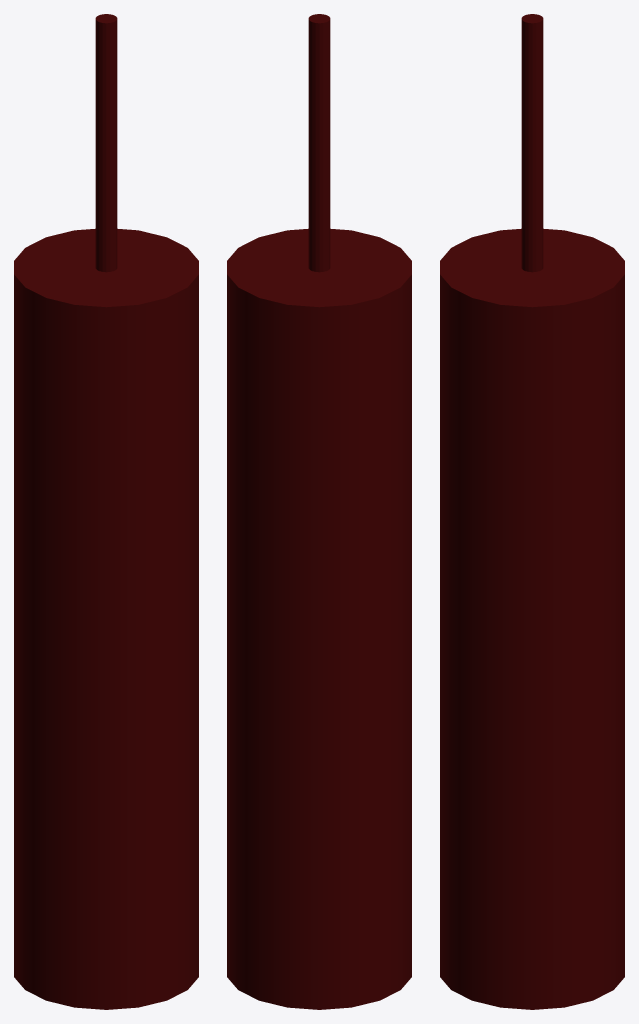
File: rina dynamite.fbx
3 renders of one model, left to right at view 1: azimuth 30°, elevation 25°; view 2: azimuth 150°, elevation 25°; view 3: azimuth 270°, elevation 25°, orthographic.
Parts seen in each view (by area): view 1: Cylinder006; view 2: Cylinder006; view 3: Cylinder006.
Part boxes in pixels (x1=…): Cylinder006: x1=14, y1=14, x2=198, y2=1009; Cylinder006: x1=227, y1=14, x2=411, y2=1009; Cylinder006: x1=440, y1=14, x2=624, y2=1009.
Bounding box in the file's own units: 1.13 × 6.32 × 1.11.
